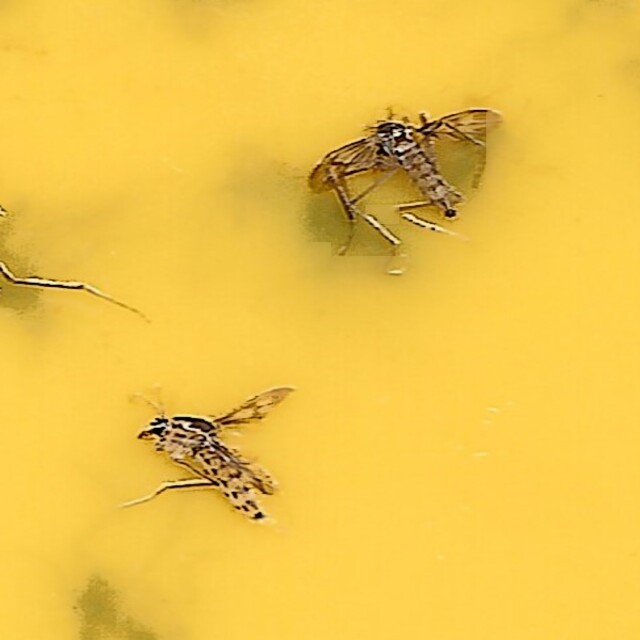Nematocera: (308, 107, 509, 249), (131, 387, 297, 533)
